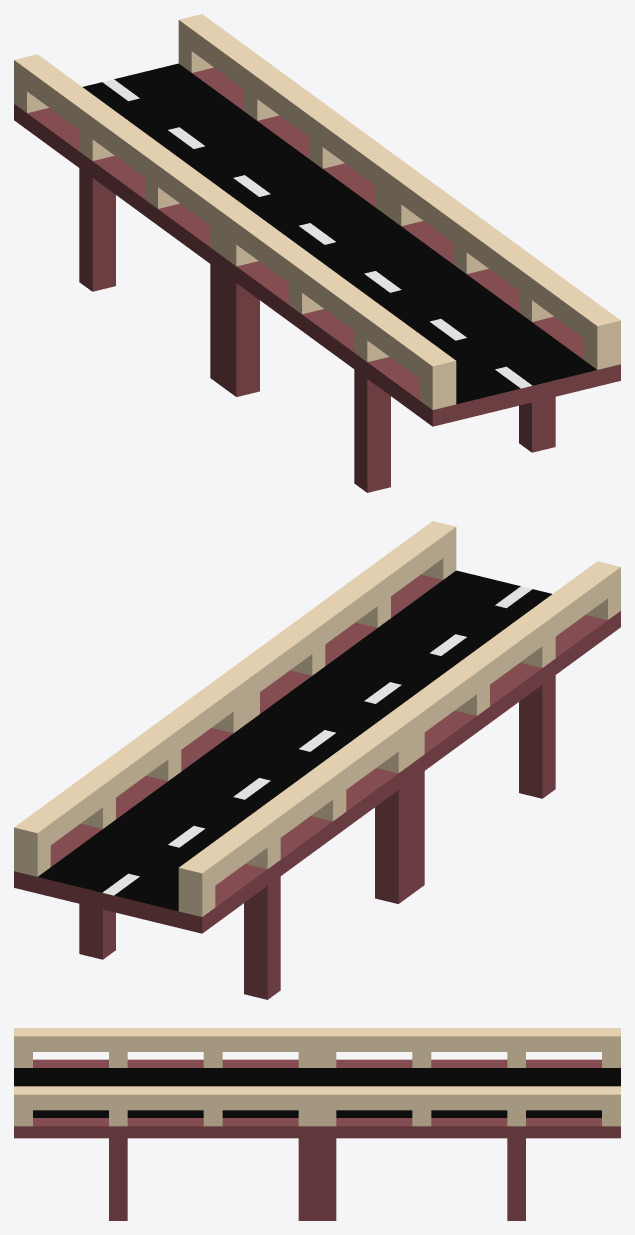
The model's file is hasi_model.fbx.
3 views of the same model, one above another, from view 1: azimuth 30°, elevation 25°; view 2: azimuth 150°, elevation 25°; view 3: azimuth 270°, elevation 25° (orthographic). The views are drawn at different scales.
Visible parts, largest first — view 1: 立方体; view 2: 立方体; view 3: 立方体.
Boxes of the visible parts, left/top/right/bottom form: 立方体: left=14, top=14, right=620, bottom=492; 立方体: left=14, top=521, right=620, bottom=999; 立方体: left=14, top=1028, right=620, bottom=1220.
Bounding box in the file's own units: 200 × 177 × 771.
